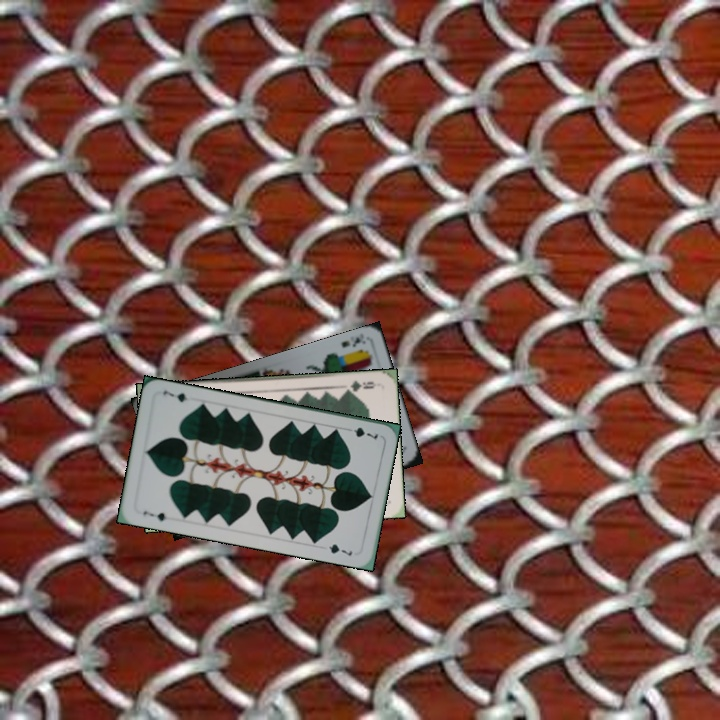EK: (337, 330, 368, 350)
G7: (342, 423, 381, 442), (139, 507, 169, 524)
G9: (341, 376, 378, 395)
